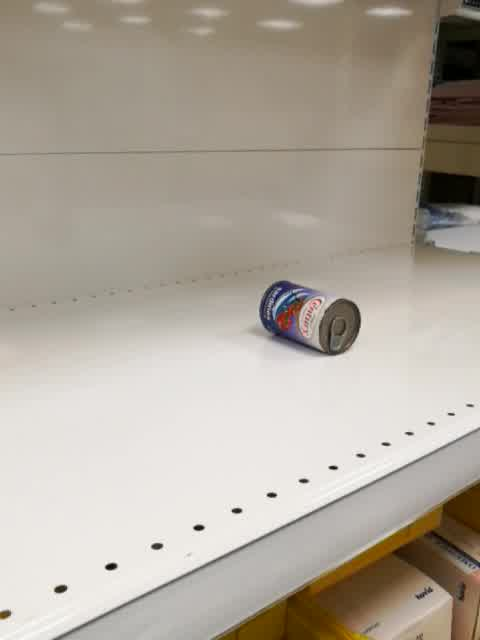sardine: (257, 281, 361, 356)
